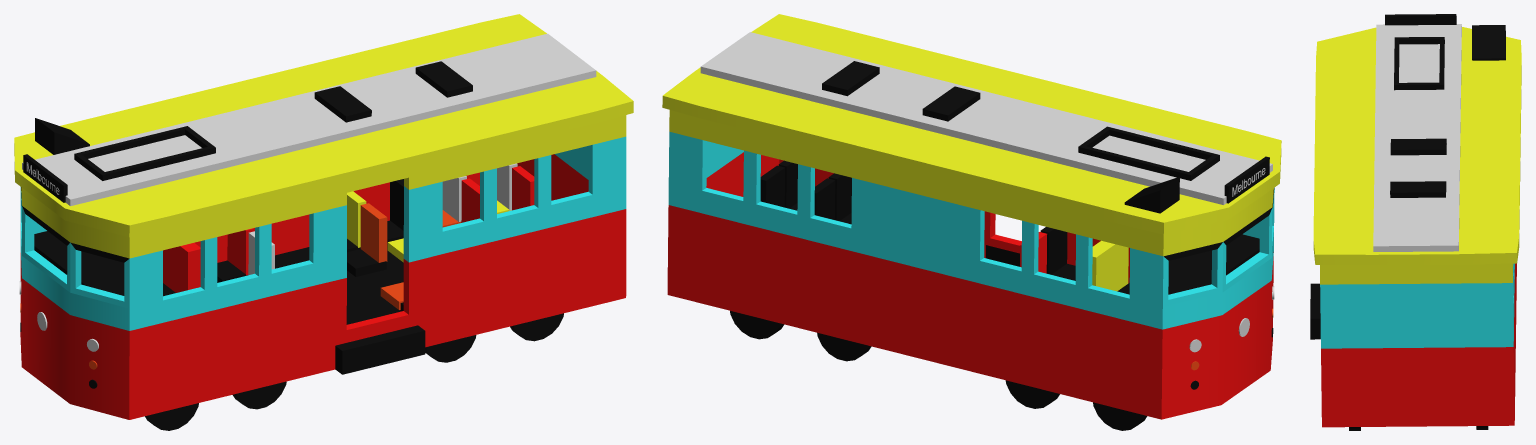
File: train.fbx
The picture shows the model from 3 angles, left to right: view 1: azimuth 30°, elevation 25°; view 2: azimuth 150°, elevation 25°; view 3: azimuth 270°, elevation 25°; orthographic projection. The views are drawn at different scales.
Visible parts, largest first — view 1: train; view 2: train; view 3: train.
Part boxes in pixels (box(x1,y1,x2,y2)): train: box(14, 14, 633, 430); train: box(662, 14, 1281, 430); train: box(1310, 14, 1521, 430).
Bounding box in the file's own units: 10575 × 4889 × 4115.
